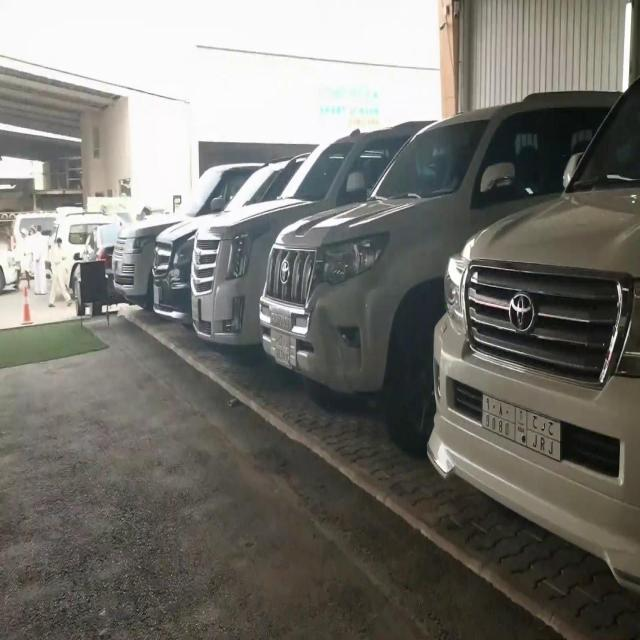license_plate: (477, 384, 562, 465)
